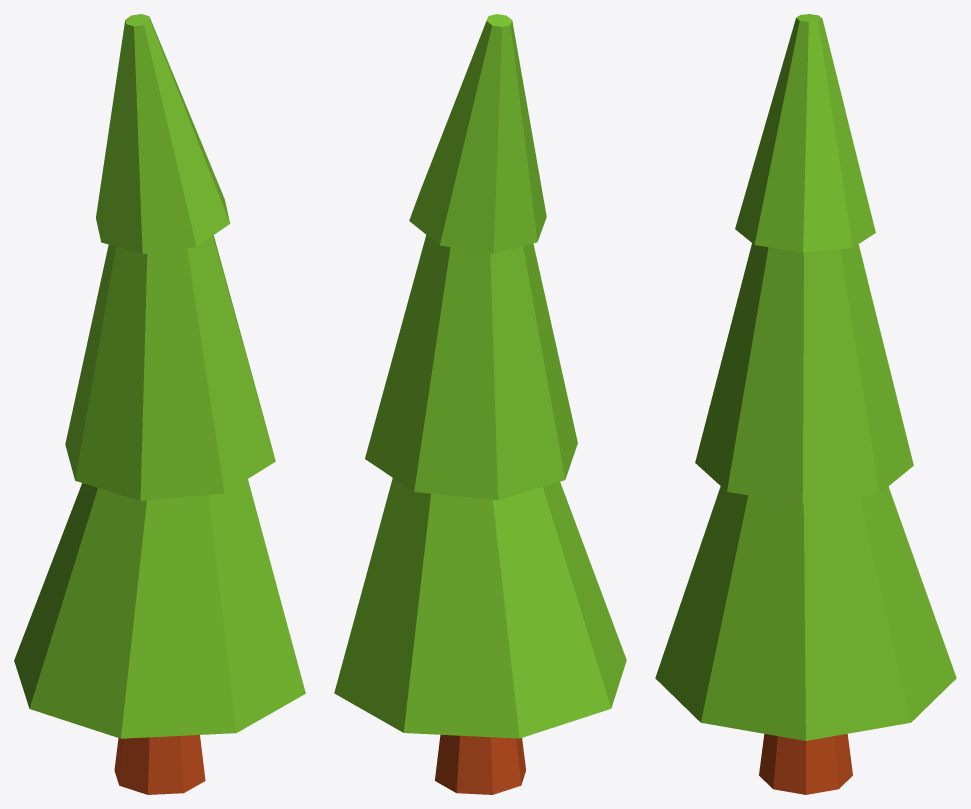
Rendered from tree02.obj.
The picture shows the model from 3 angles, left to right: view 1: azimuth 30°, elevation 25°; view 2: azimuth 150°, elevation 25°; view 3: azimuth 270°, elevation 25°; orthographic projection.
Visible parts, largest first — view 1: Plane; view 2: Plane; view 3: Plane.
Boxes of the visible parts, x1,y1,x2,y2 form: Plane: (14,14,305,794); Plane: (334,14,626,794); Plane: (655,14,956,794).
Size of the model in its own units: 1.64 by 4.56 by 1.66.
